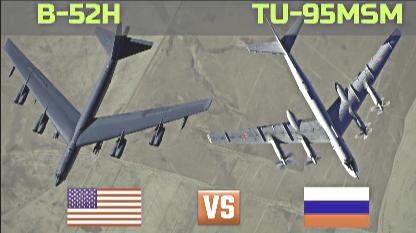B2: (1, 20, 211, 186)
Su57: (206, 12, 400, 180)
